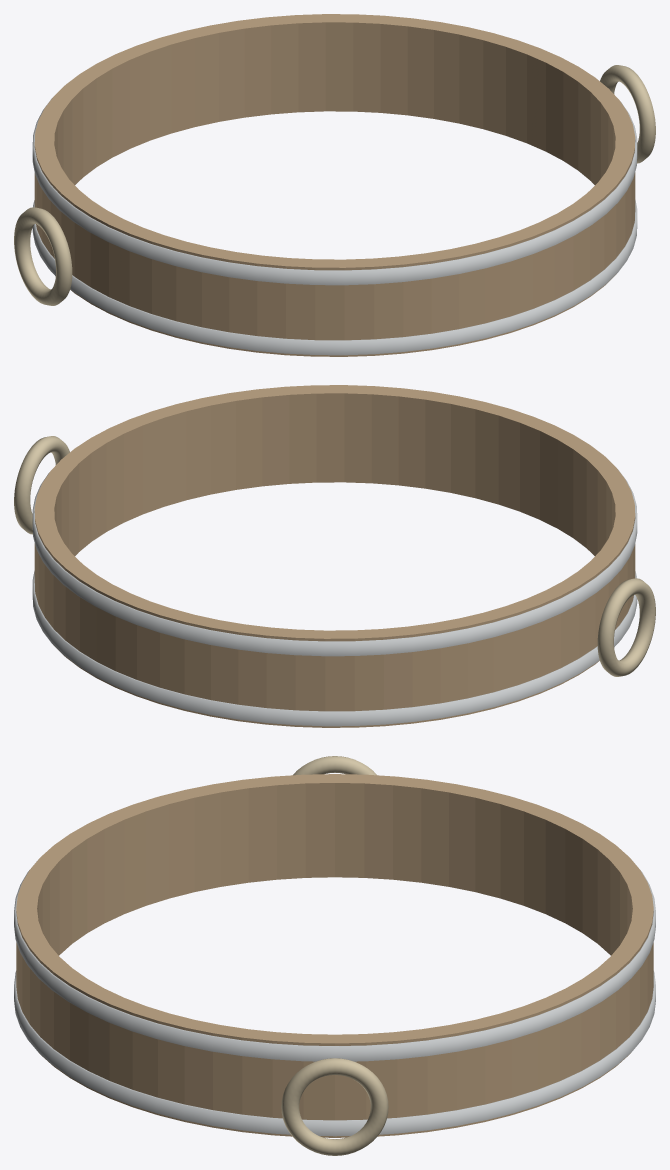
The model's file is gem_sieve.glb.
3 renders of one model, top to bottom at view 1: azimuth 30°, elevation 25°; view 2: azimuth 150°, elevation 25°; view 3: azimuth 270°, elevation 25°, orthographic. The views are drawn at different scales.
Visible parts, largest first — view 1: gem_sieve; view 2: gem_sieve; view 3: gem_sieve.
Boxes of the visible parts, <box> form: gem_sieve: <box>14,14,655,356</box>; gem_sieve: <box>14,385,655,727</box>; gem_sieve: <box>14,756,655,1155</box>.
Bounding box in the file's own units: 0.492 × 0.072 × 0.431.
